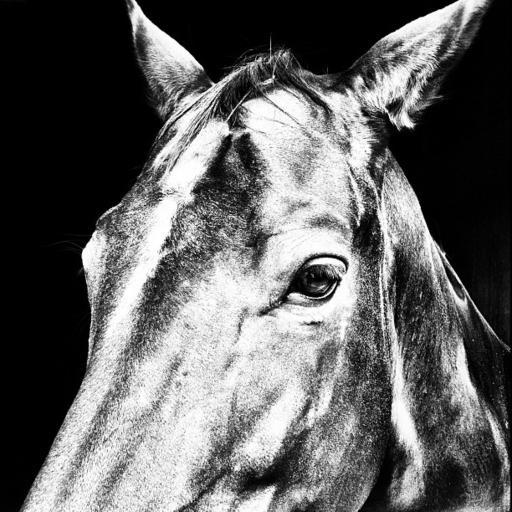Horse: (18, 0, 511, 511)
